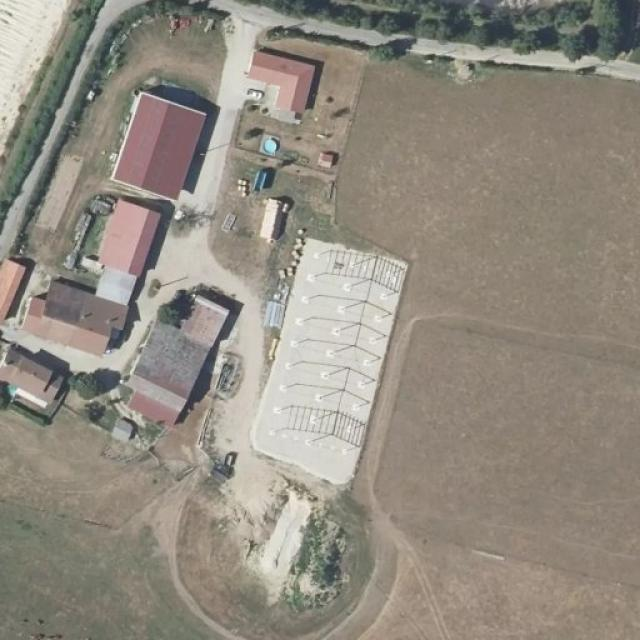ferme: (104, 278, 254, 442), (102, 77, 209, 211), (79, 197, 172, 279)
maison: (224, 47, 338, 132), (31, 274, 141, 360), (0, 341, 78, 417), (0, 246, 37, 311)
piscine: (249, 125, 286, 164)
